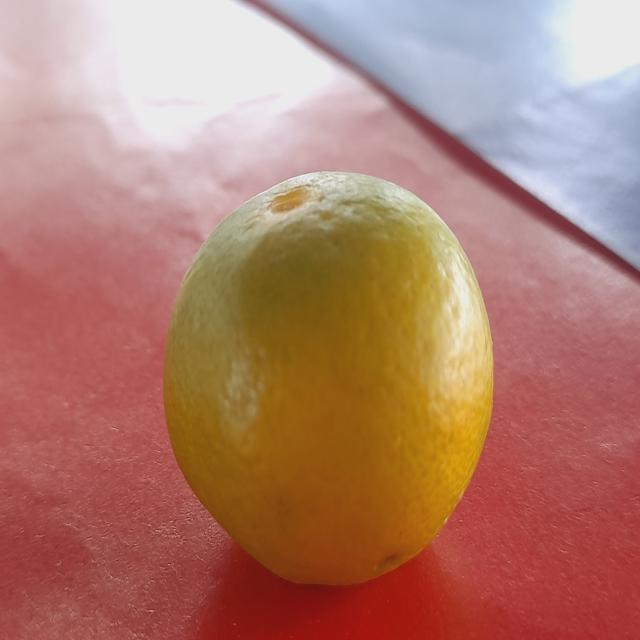greening: (145, 156, 506, 591)
